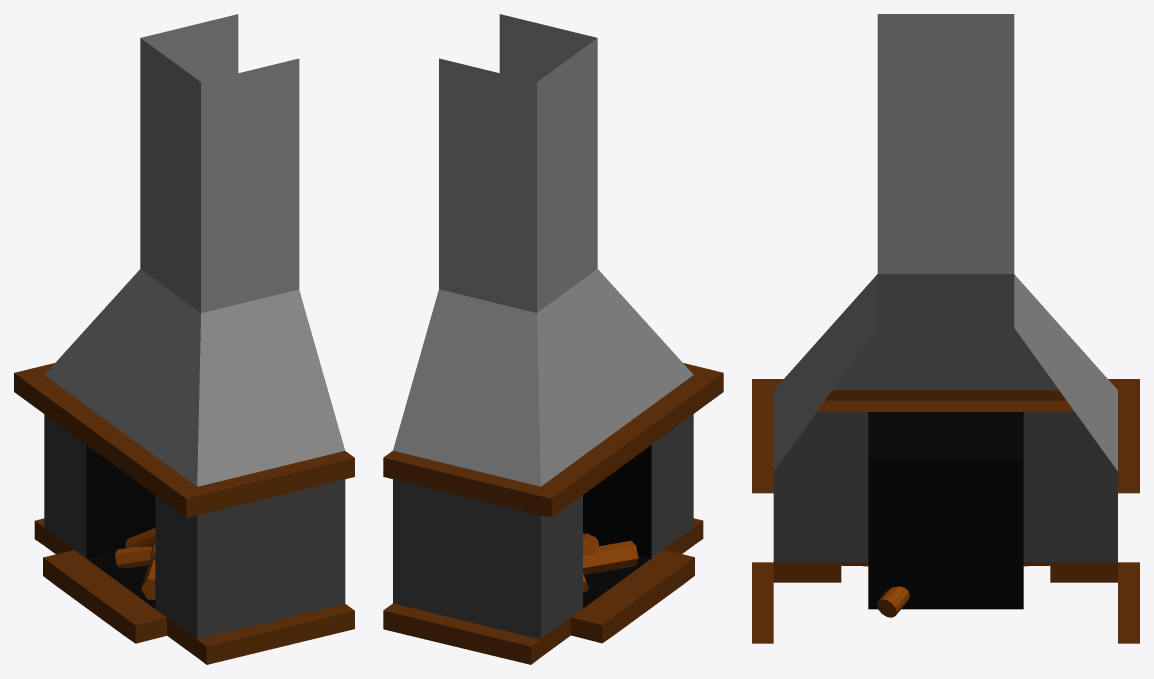
Rendered from takka.FBX.
3 views of the same model, side by side, from view 1: azimuth 30°, elevation 25°; view 2: azimuth 150°, elevation 25°; view 3: azimuth 270°, elevation 25° (orthographic). The views are drawn at different scales.
Visible parts, largest first — view 1: takka; view 2: takka; view 3: takka.
Boxes of the visible parts, x1,y1,x2,y2 form: takka: (14, 14, 354, 664); takka: (383, 14, 723, 664); takka: (752, 14, 1139, 643).
Bounding box in the file's own units: 205 × 579 × 341.
